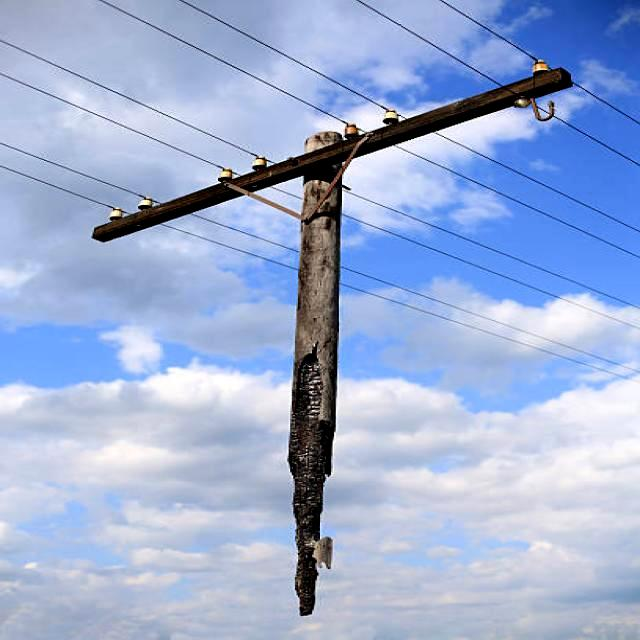Broken Pole: (66, 26, 598, 634)
